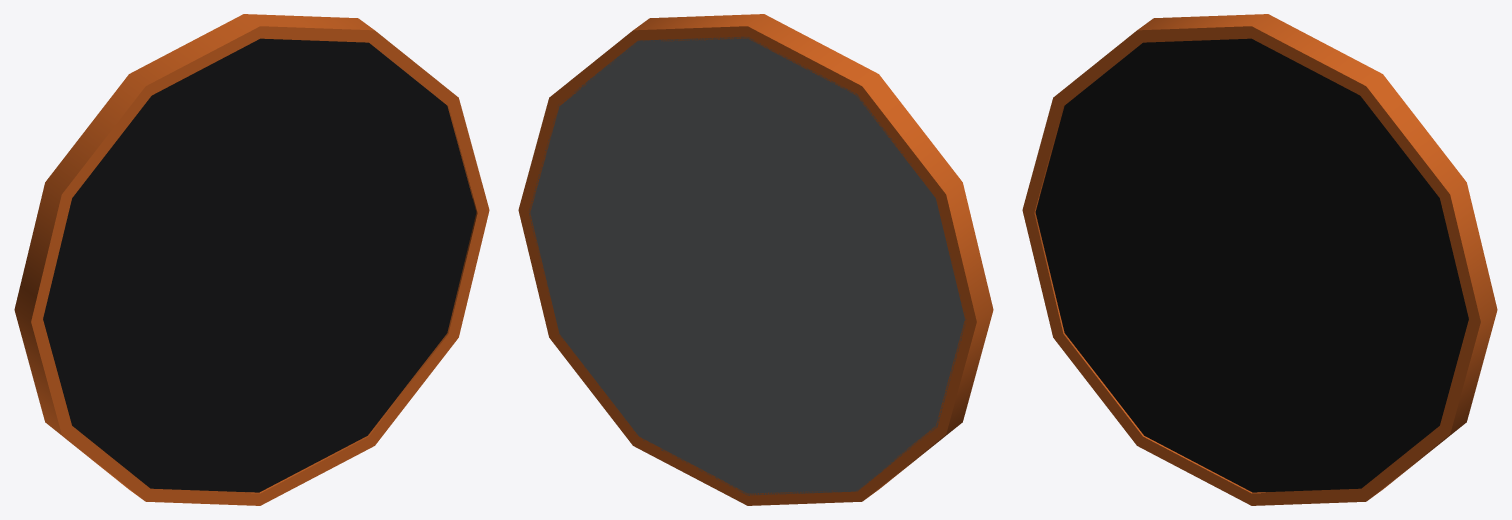
File: engine_hot_emitter_annulus.obj
3 renders of one model, left to right at view 1: azimuth 30°, elevation 25°; view 2: azimuth 150°, elevation 25°; view 3: azimuth 330°, elevation 25°, orthographic.
Parts seen in each view (by area): view 1: engine_hot_emitter_annulus; view 2: engine_hot_emitter_annulus; view 3: engine_hot_emitter_annulus.
Boxes of the visible parts, x1,y1,x2,y2 form: engine_hot_emitter_annulus: (14,14,489,505); engine_hot_emitter_annulus: (518,14,993,505); engine_hot_emitter_annulus: (1022,14,1497,505).
Size of the model in its own units: 4.61 by 4.61 by 0.29.
